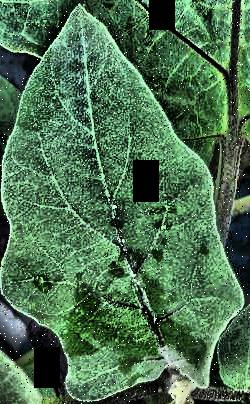HEALTHY: (0, 1, 250, 404)
